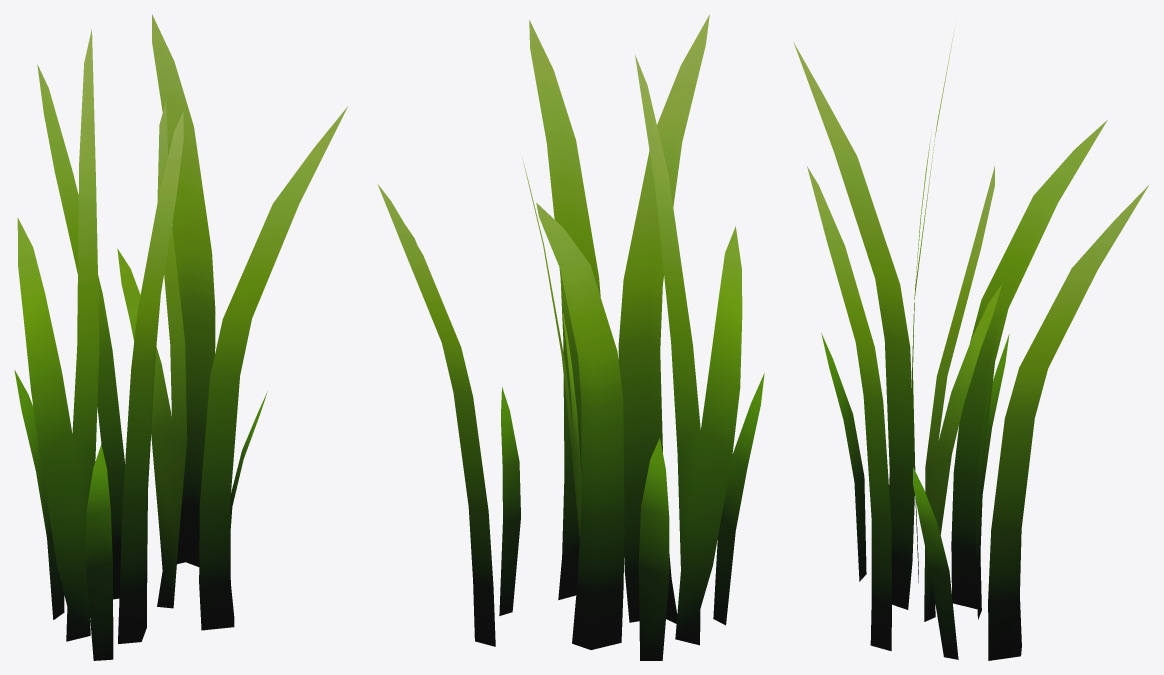
The model's file is sn_grass_common_short.glb.
3 renders of one model, left to right at view 1: azimuth 30°, elevation 25°; view 2: azimuth 150°, elevation 25°; view 3: azimuth 270°, elevation 25°, orthographic. The views are drawn at different scales.
Visible parts, largest first — view 1: Grass_Common_Short; view 2: Grass_Common_Short; view 3: Grass_Common_Short.
Boxes of the visible parts, x1=… form: Grass_Common_Short: x1=14, y1=14, x2=347, y2=660; Grass_Common_Short: x1=377, y1=14, x2=764, y2=660; Grass_Common_Short: x1=793, y1=27, x2=1149, y2=660.
Bounding box in the file's own units: 0.6388 × 1.33 × 0.7373.
1 material, 1 textured.
